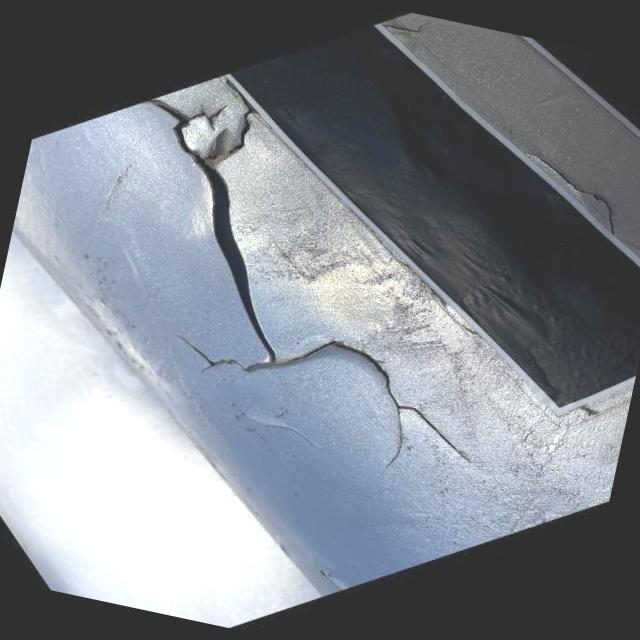crack: (134, 140, 307, 337), (173, 111, 299, 369), (312, 342, 466, 471), (174, 320, 312, 395), (183, 339, 388, 380), (395, 400, 467, 463), (398, 422, 403, 454)
